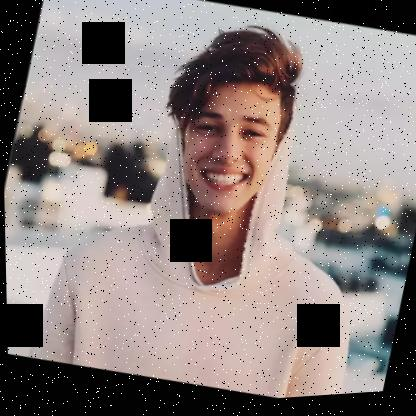Male: (167, 68, 292, 226)
